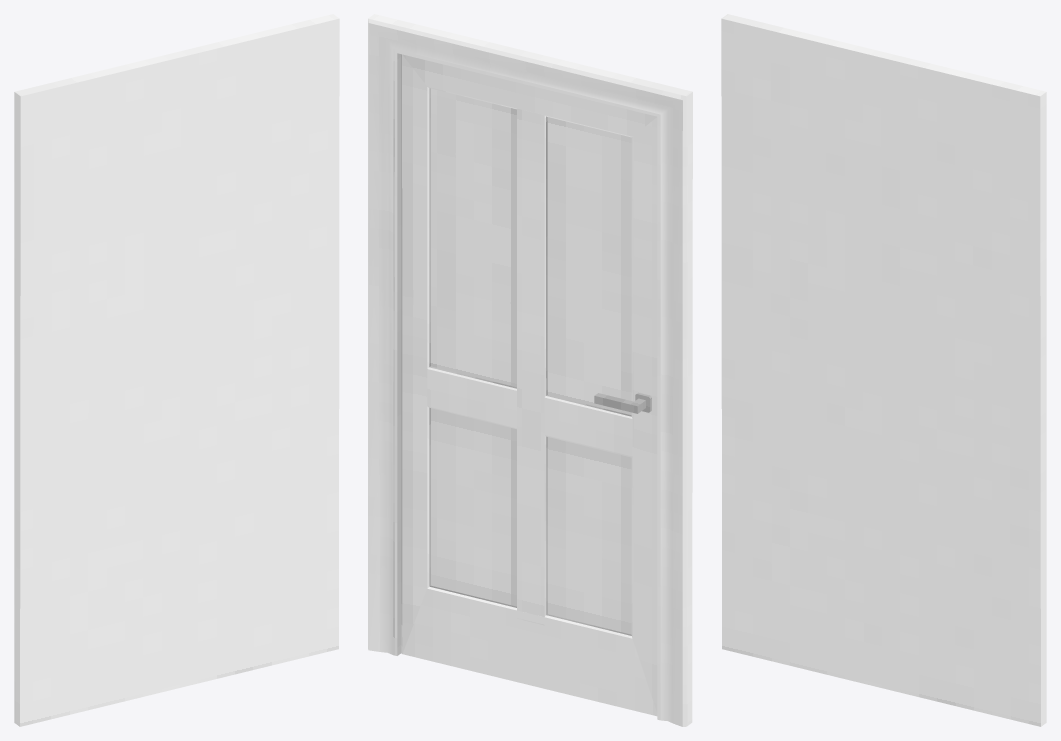
Rendered from DoorFourPanelSnapToWall.glb.
3 renders of one model, left to right at view 1: azimuth 30°, elevation 25°; view 2: azimuth 150°, elevation 25°; view 3: azimuth 330°, elevation 25°, orthographic.
Parts seen in each view (by area): view 1: DoorFourPanelSnapToWall; view 2: DoorFourPanelSnapToWall; view 3: DoorFourPanelSnapToWall.
Boxes of the visible parts, x1,y1,x2,y2 form: DoorFourPanelSnapToWall: [14, 14, 339, 726]; DoorFourPanelSnapToWall: [368, 14, 692, 726]; DoorFourPanelSnapToWall: [721, 14, 1046, 726].
Size of the model in its own units: 1.12 by 2.13 by 0.0835.
Materials: 1 (1 with a texture image).
